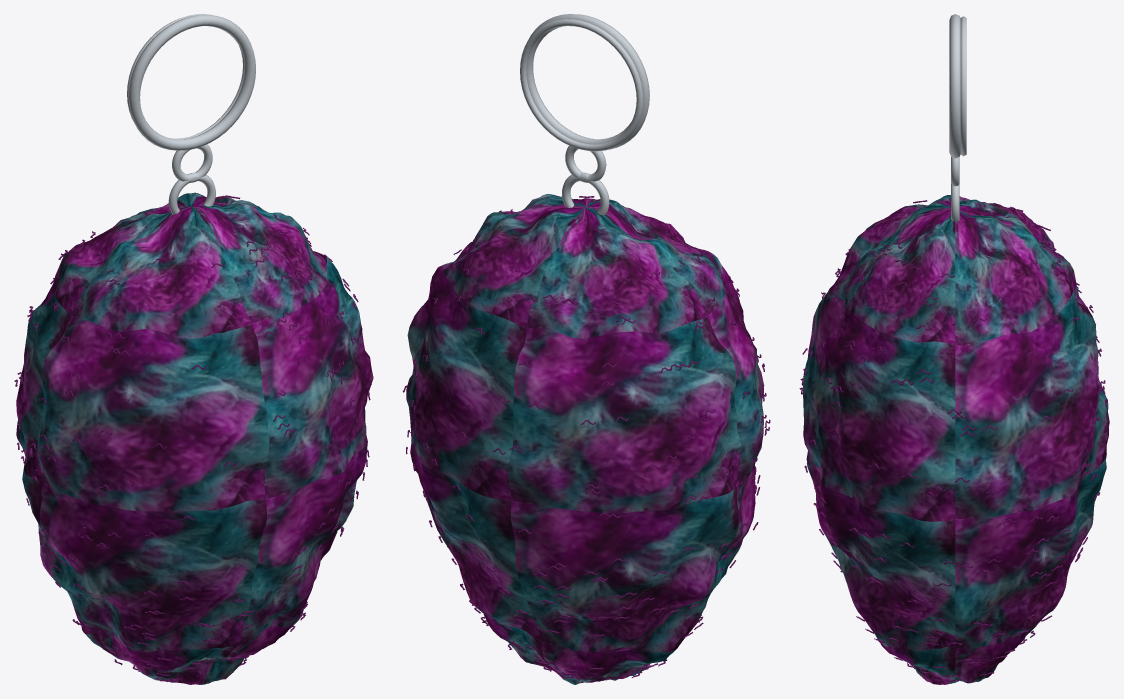
The model's file is brilok-turquoise-purple.glb.
The picture shows the model from 3 angles, left to right: view 1: azimuth 30°, elevation 25°; view 2: azimuth 150°, elevation 25°; view 3: azimuth 270°, elevation 25°; orthographic projection.
Parts seen in each view (by area): view 1: brilok-turquoise-purple; view 2: brilok-turquoise-purple; view 3: brilok-turquoise-purple.
Part boxes in pixels (x1,y1,x2,y2): brilok-turquoise-purple: (14,14,373,684); brilok-turquoise-purple: (403,14,770,684); brilok-turquoise-purple: (799,14,1109,684).
Bounding box in the file's own units: 1.53 × 2.93 × 1.26.
Materials: 3 (2 with a texture image).
